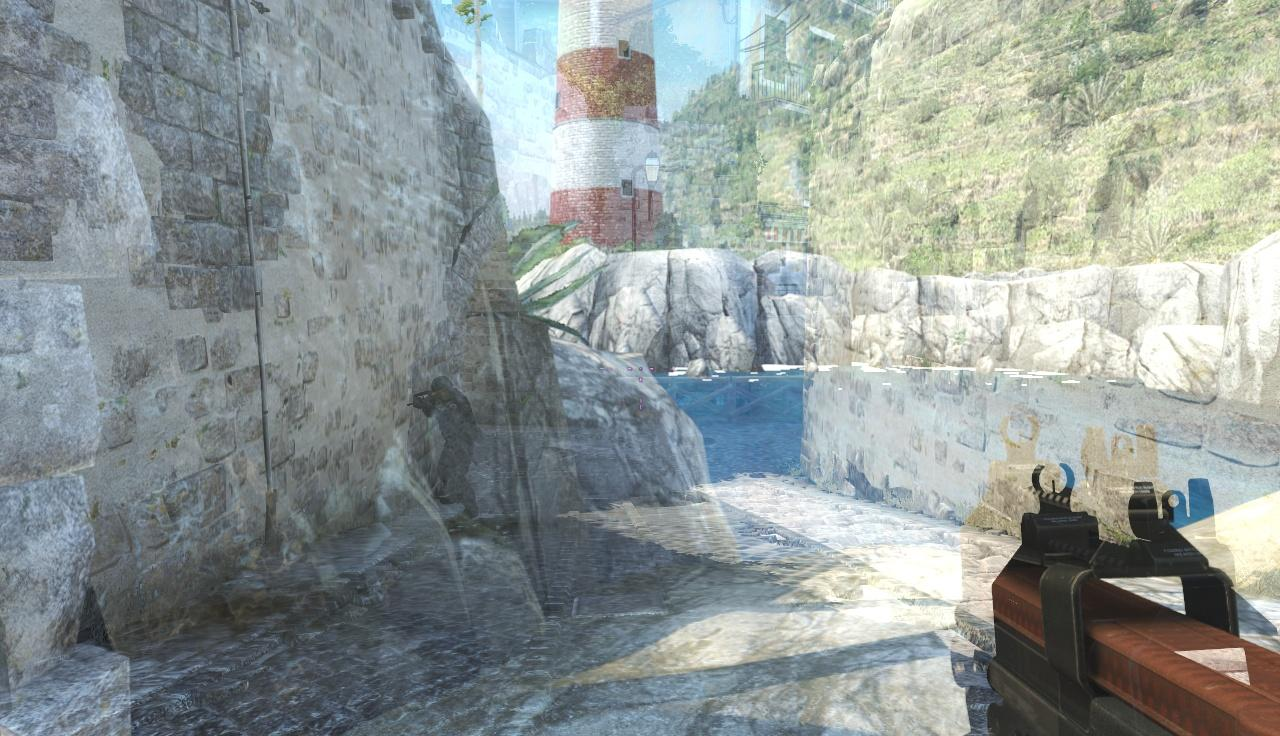ct: (429, 375, 475, 509)
cthead: (430, 377, 453, 406)
rifle: (995, 464, 1280, 736)
